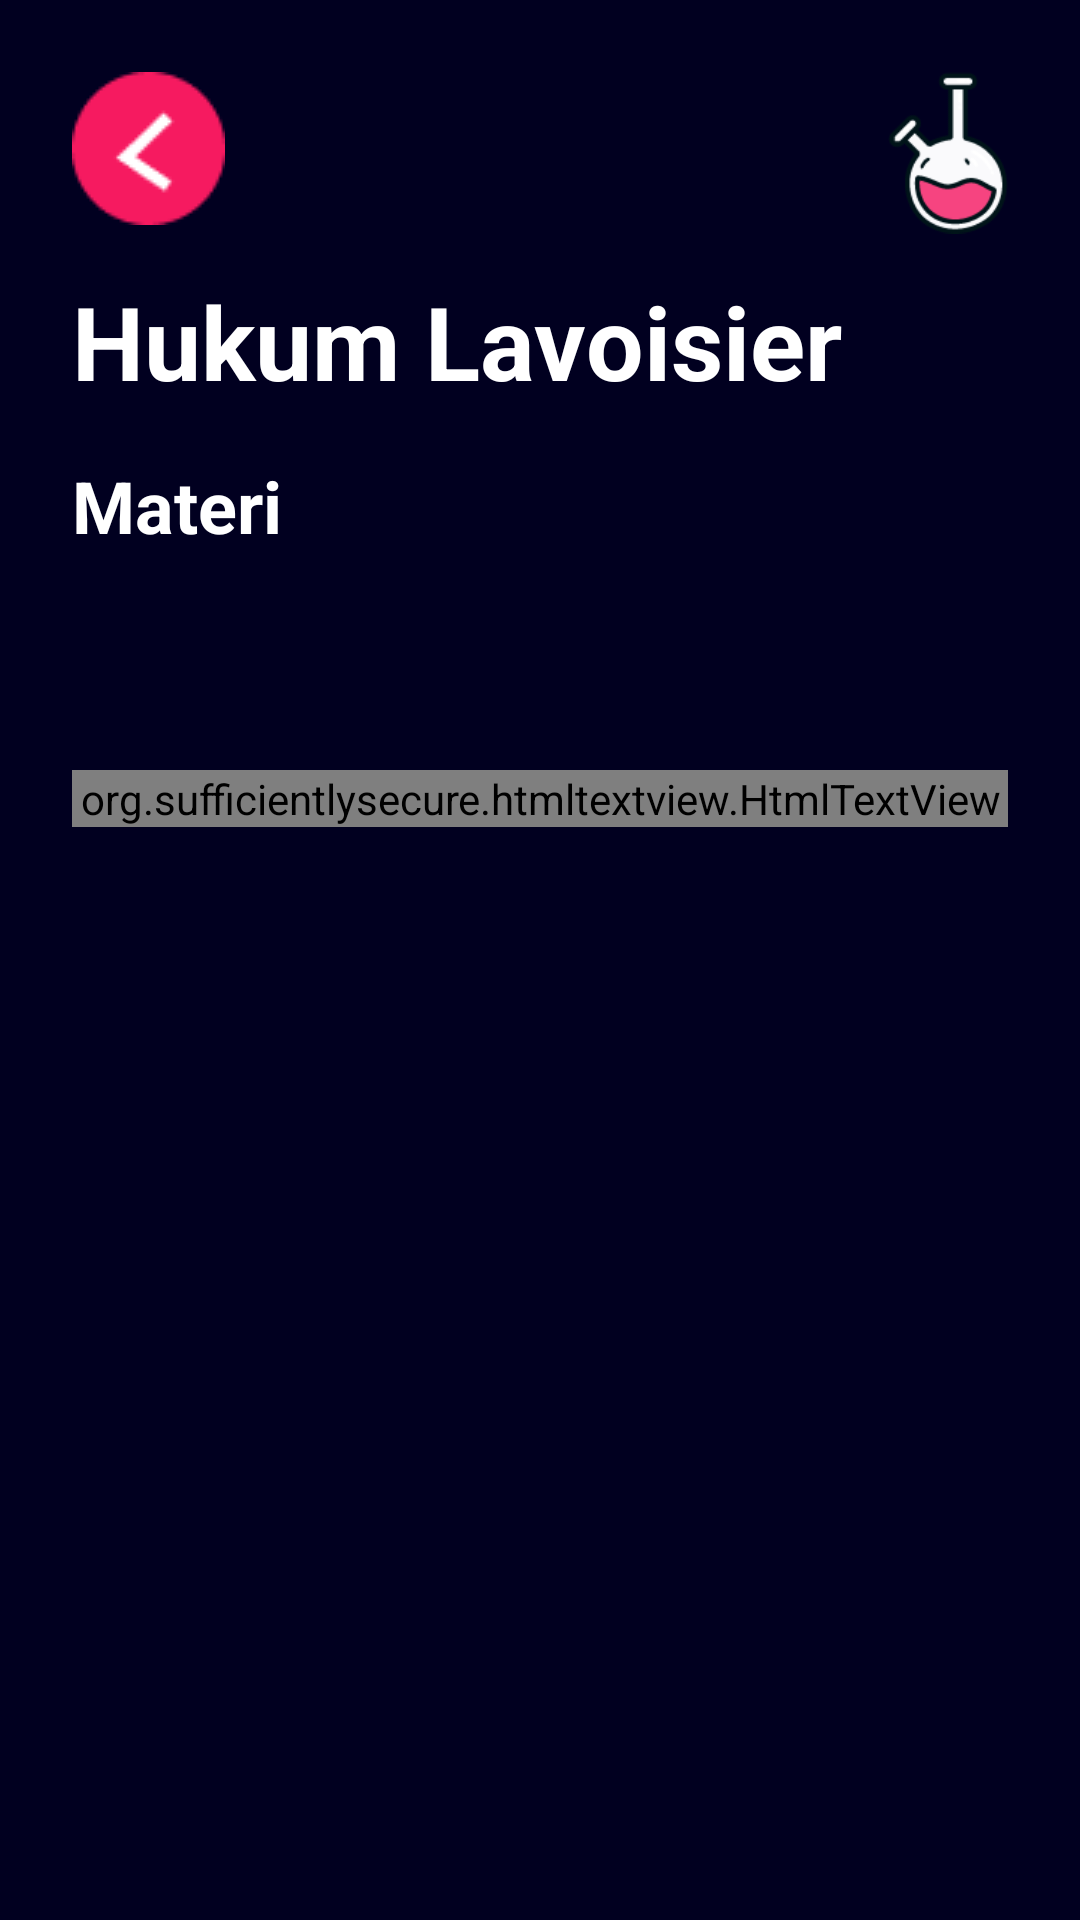

Icons on this 1080×1920 Android screen, each with the point to tap as [x,y]:
back: [148,148]
